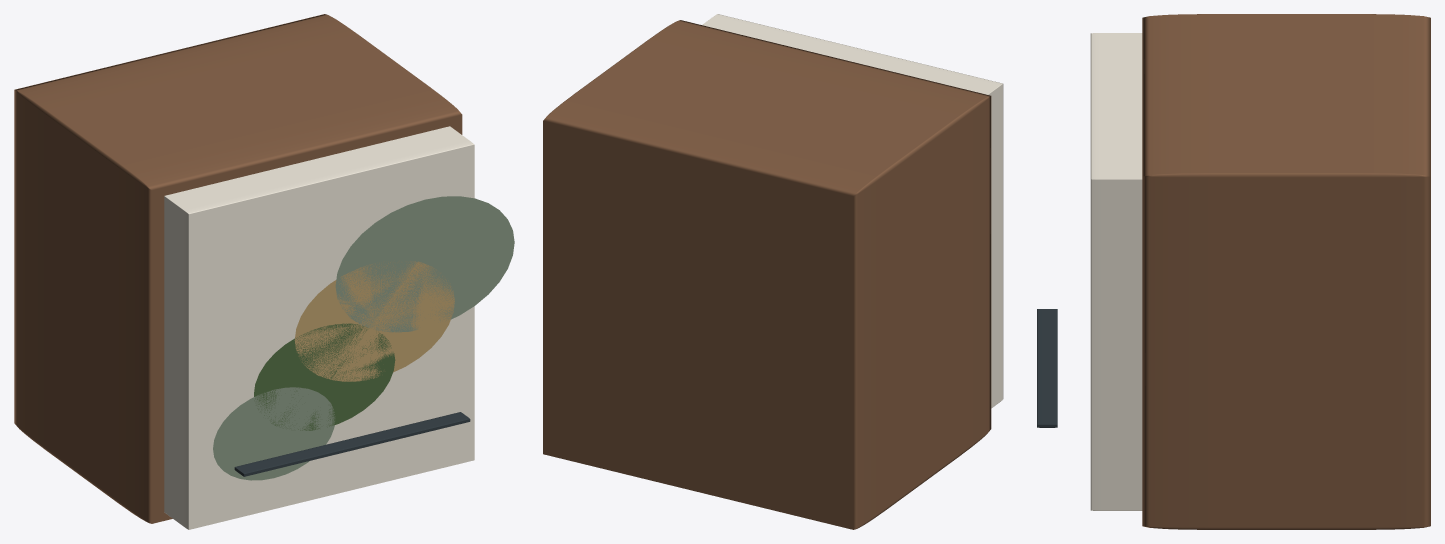
File: studio-art-landscape.glb
The picture shows the model from 3 angles, left to right: view 1: azimuth 30°, elevation 25°; view 2: azimuth 150°, elevation 25°; view 3: azimuth 270°, elevation 25°; orthographic projection. The views are drawn at different scales.
Parts seen in each view (by area): view 1: upholstery (×3), part (×3); view 2: upholstery (×2); view 3: upholstery (×3).
Boxes of the visible parts, x1=… form: upholstery (×3): x1=14, y1=14, x2=474, y2=529; part (×3): x1=213, y1=196, x2=514, y2=480; upholstery (×2): x1=543, y1=14, x2=1003, y2=529; upholstery (×3): x1=1037, y1=14, x2=1430, y2=529.
Size of the model in its own units: 1 by 1 by 1.
